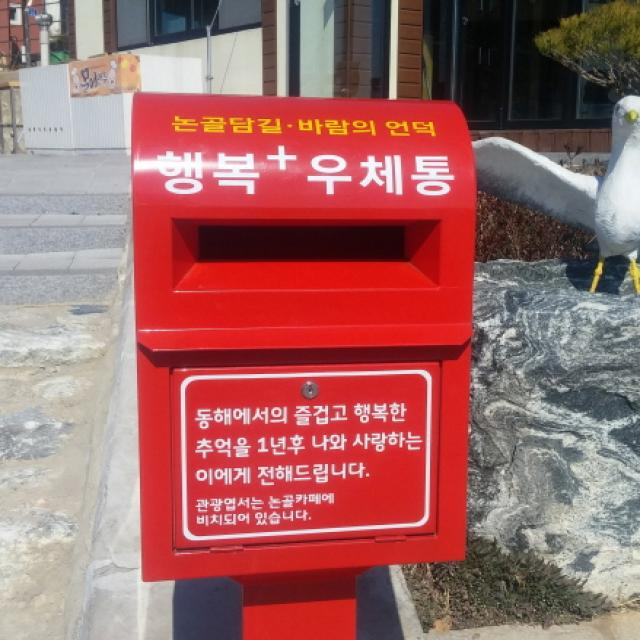Post Box: (128, 89, 468, 640)
